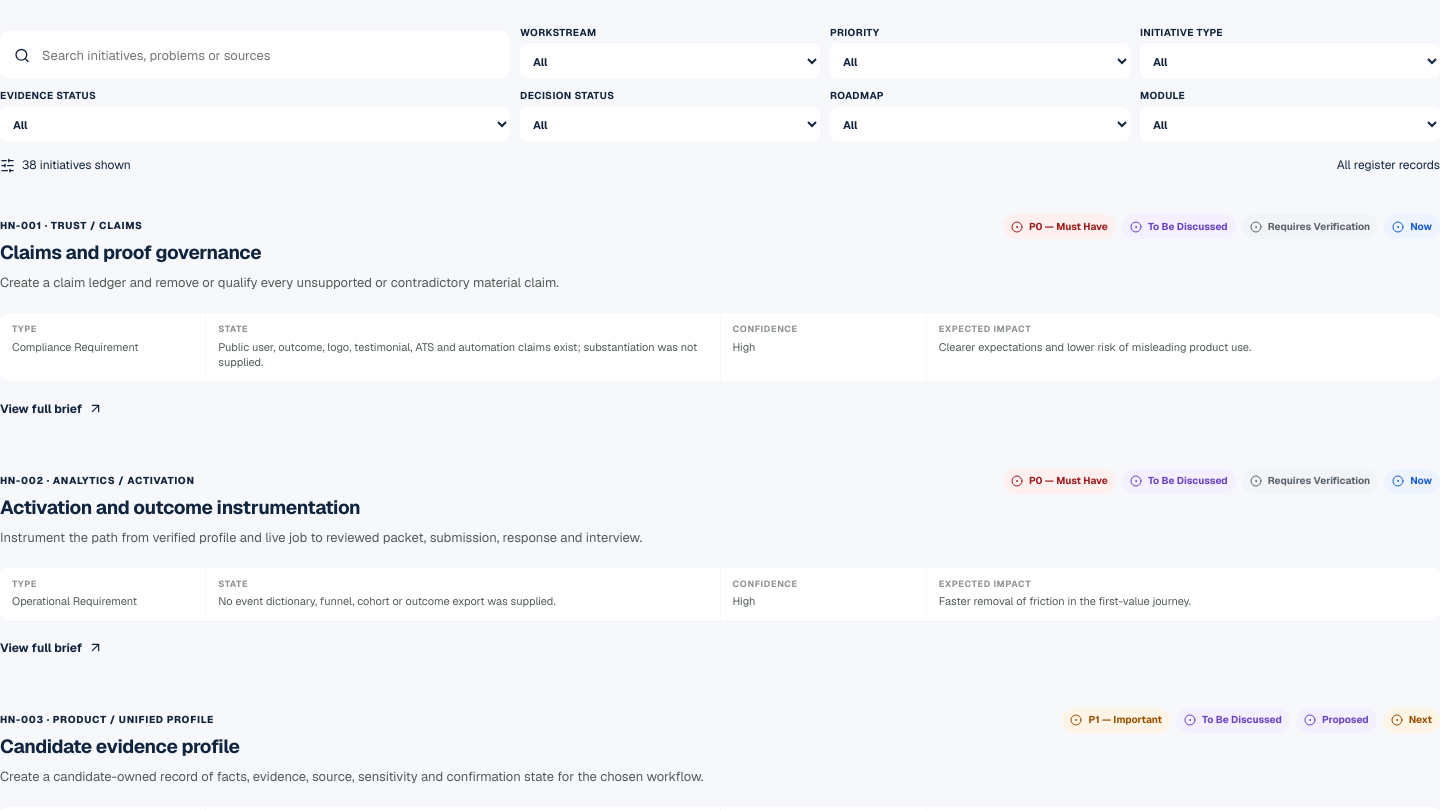
Scenario: initiative explorer › searches and combines filters with a visible selected state
Step 1. Type "Gmail" into the search field labelled "Search initiatives" → (268, 55), box [40,46,496,64]
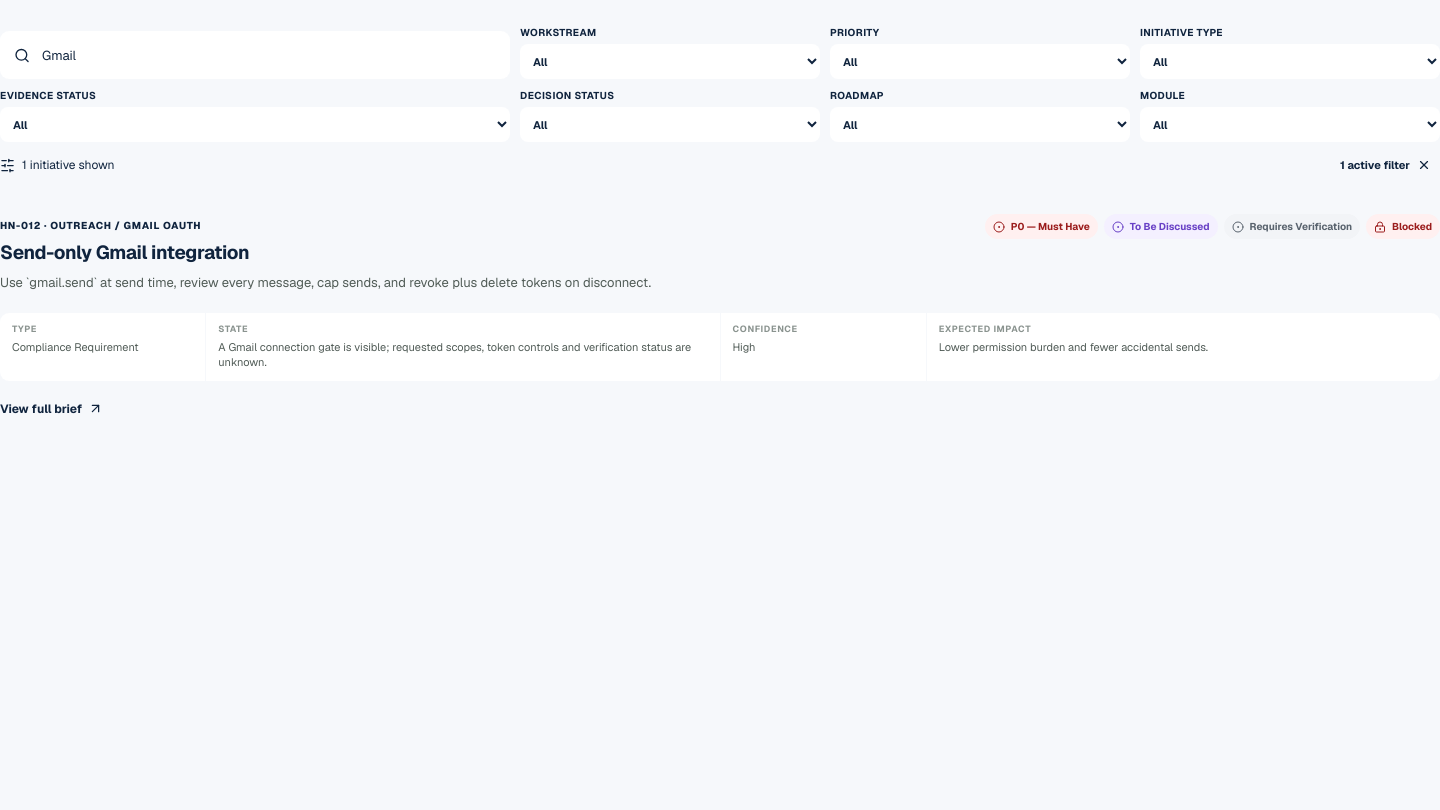
Step 2. Select "P0 — Must Have" in the dropdown labelled "Priority" → (980, 62), box [830,44,1130,79]
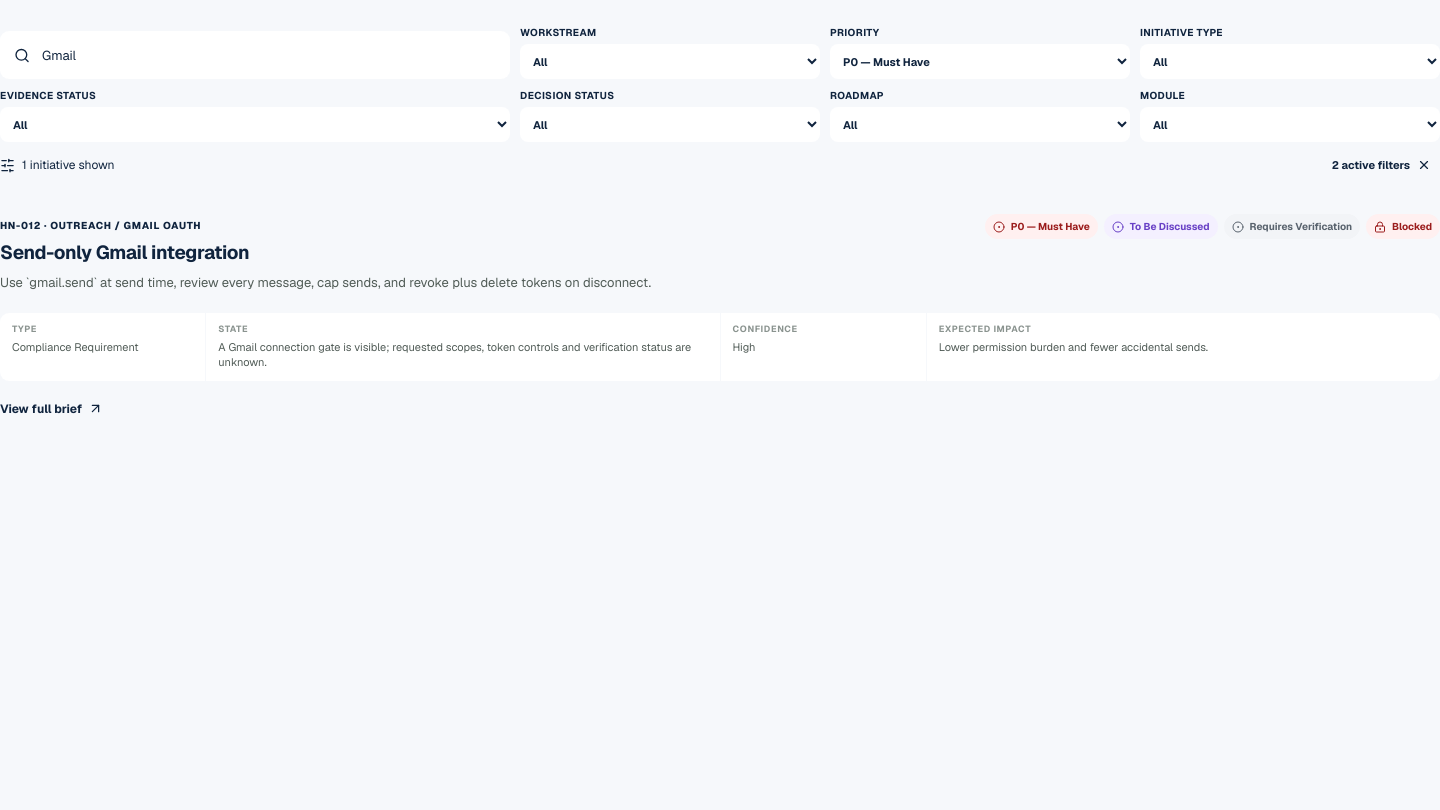
Expected: the heading "Send-only Gmail integration" is shown, [0,240,249,265]
Result: the text "1 initiative shown" is shown at [0,157,114,173]
Result: the button "2 active filters" is shown at [1323,152,1439,178]
